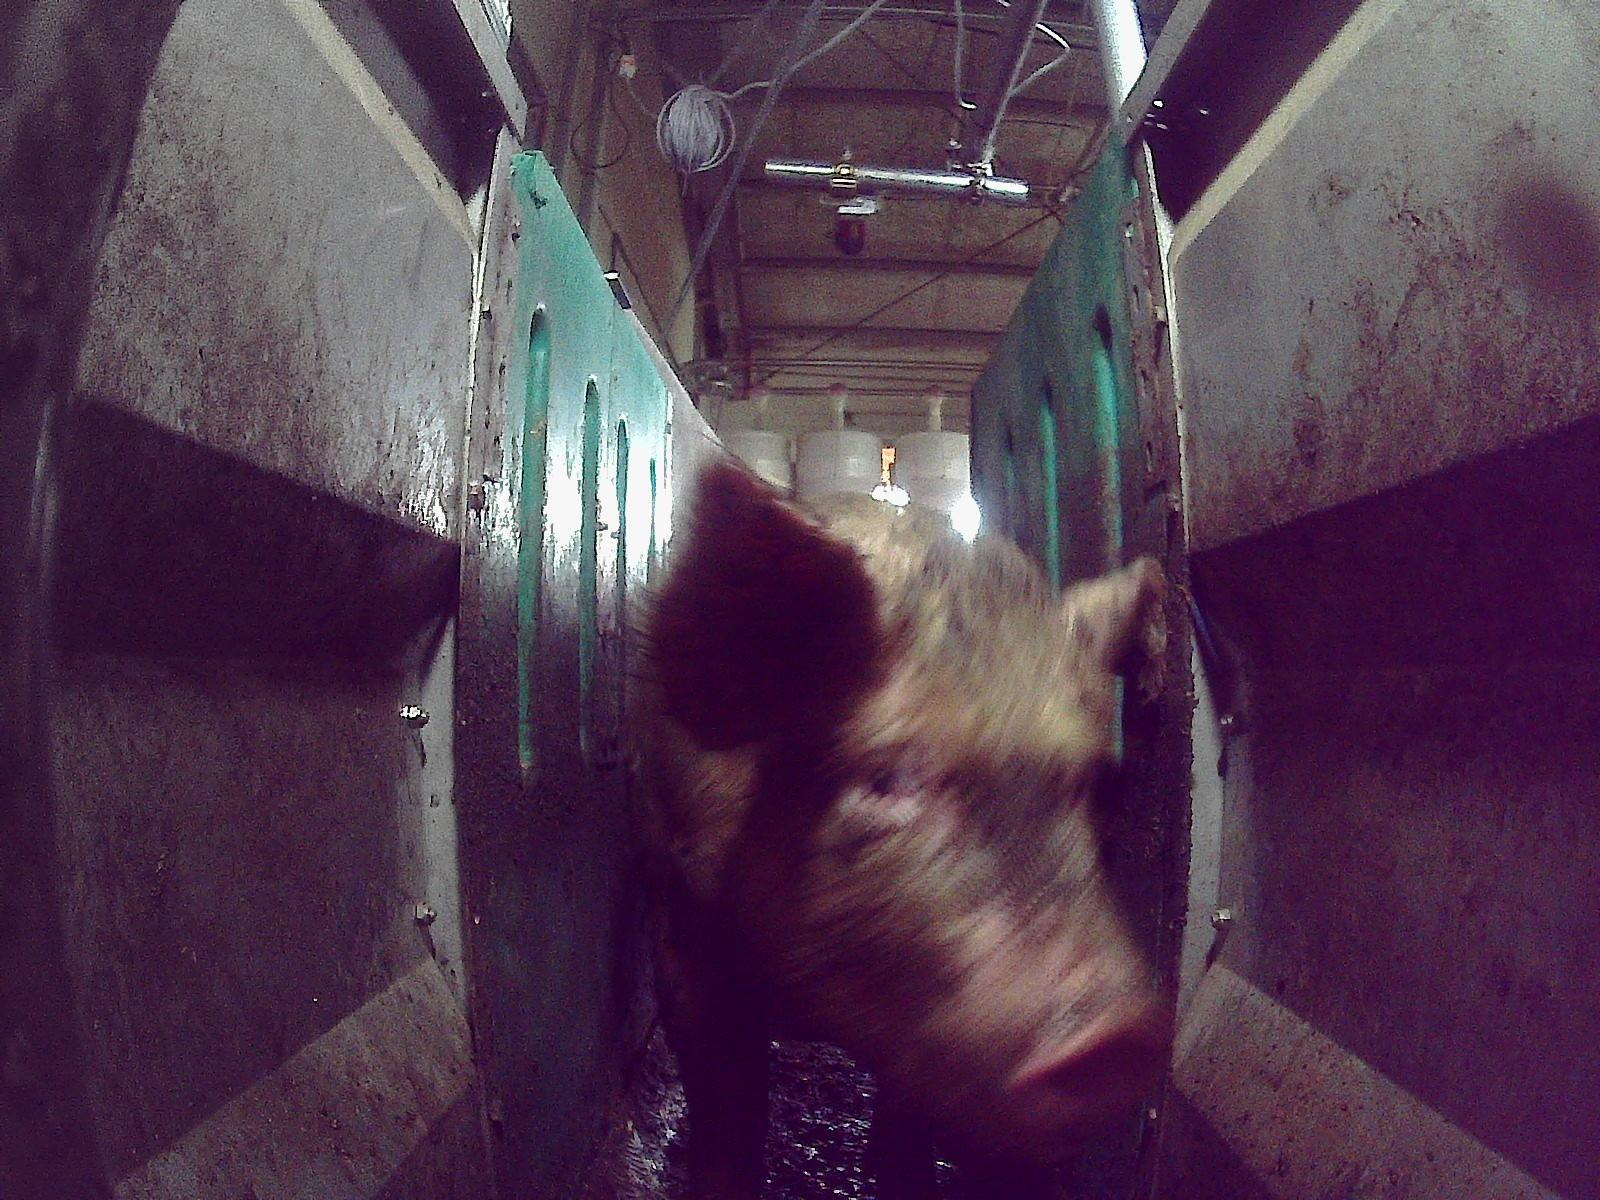Face: (710, 585, 1171, 1162)
